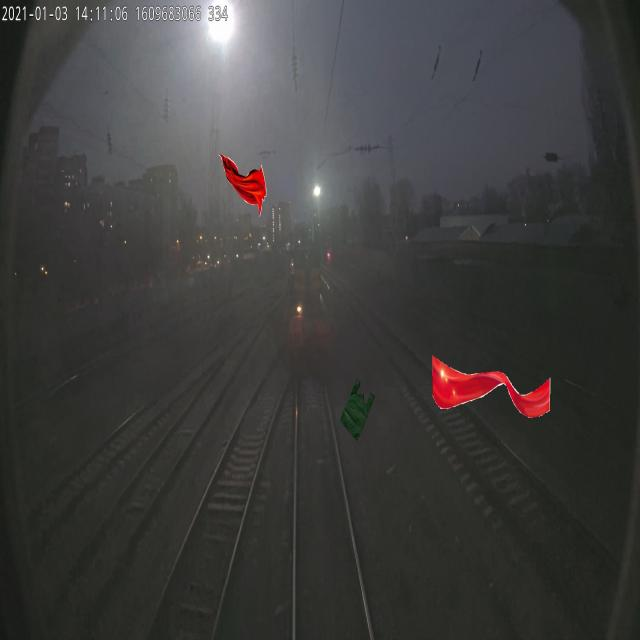floating object: (430, 355, 552, 419), (218, 153, 266, 217)
plastic bag: (340, 378, 374, 442)
